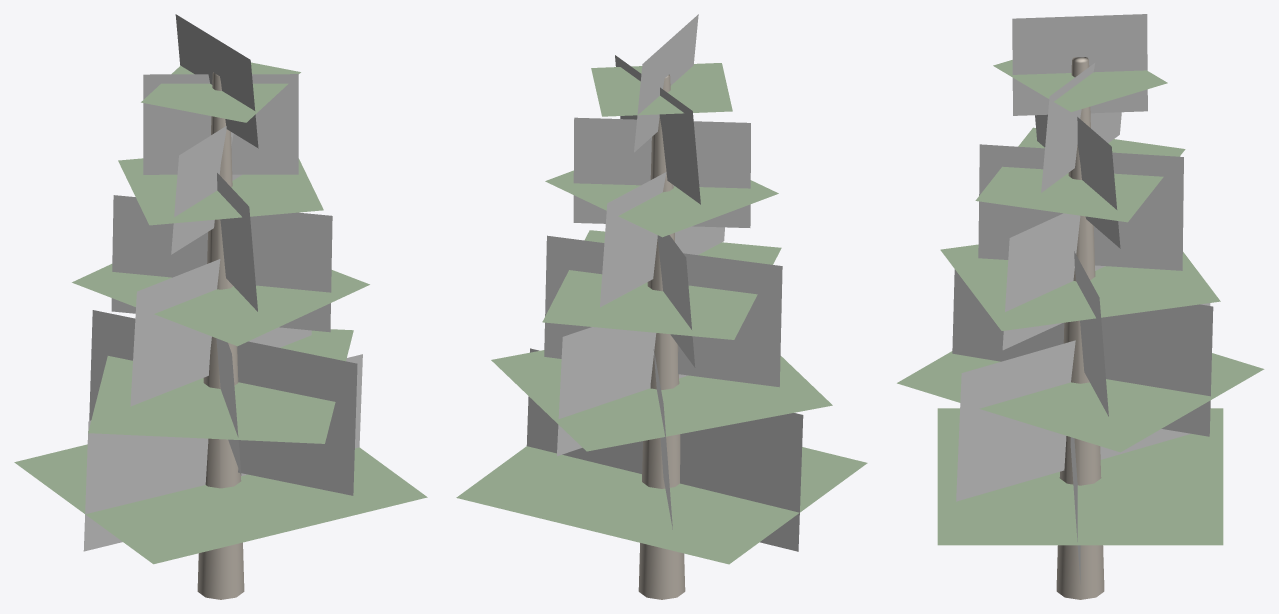
Rendered from conifer-v1.lod1.glb.
3 views of the same model, side by side, from view 1: azimuth 30°, elevation 25°; view 2: azimuth 150°, elevation 25°; view 3: azimuth 270°, elevation 25° (orthographic). The views are drawn at different scales.
Visible parts, largest first — view 1: conifer-v1.lod1; view 2: conifer-v1.lod1; view 3: conifer-v1.lod1.
Boxes of the visible parts, x1,y1,x2,y2 form: conifer-v1.lod1: (14,14,427,599); conifer-v1.lod1: (456,14,867,599); conifer-v1.lod1: (897,14,1264,599).
Size of the model in its own units: 6.66 by 11.6 by 6.8.
